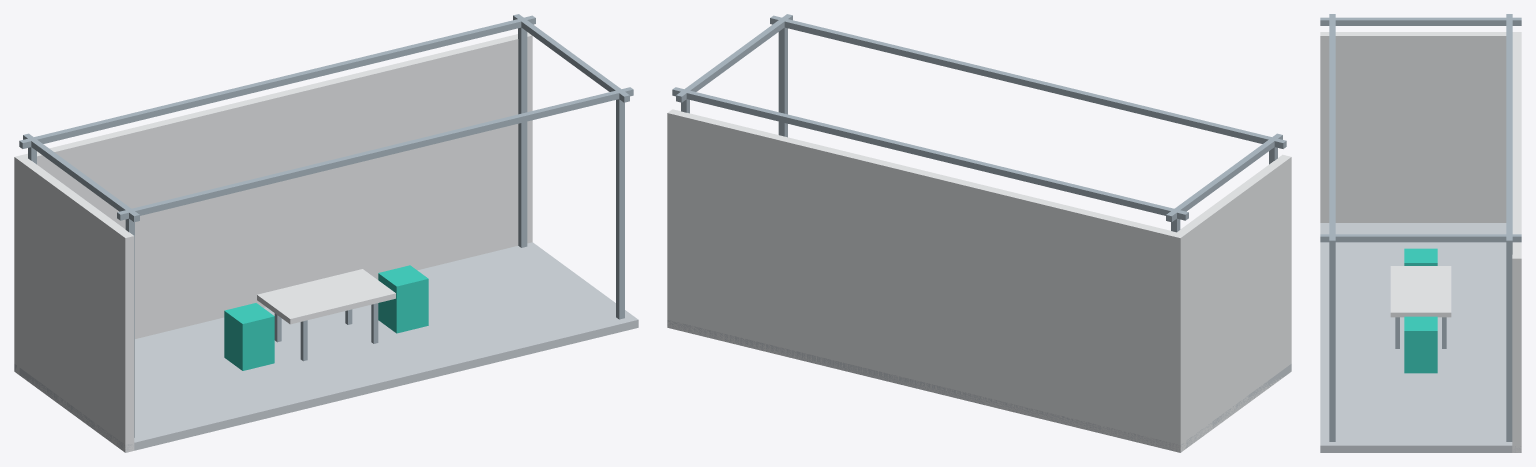
The picture shows the model from 3 angles, left to right: view 1: azimuth 30°, elevation 25°; view 2: azimuth 150°, elevation 25°; view 3: azimuth 270°, elevation 25°; orthographic projection. The views are drawn at different scales.
Parts seen in each view (by area): view 1: Exhibition Booth Concept; view 2: Exhibition Booth Concept; view 3: Exhibition Booth Concept.
Part boxes in pixels (x1,y1,x2,y2): Exhibition Booth Concept: (14,14,638,452); Exhibition Booth Concept: (667,14,1291,452); Exhibition Booth Concept: (1320,14,1521,452).
Bounding box in the file's own units: 8 × 3.49 × 3.
